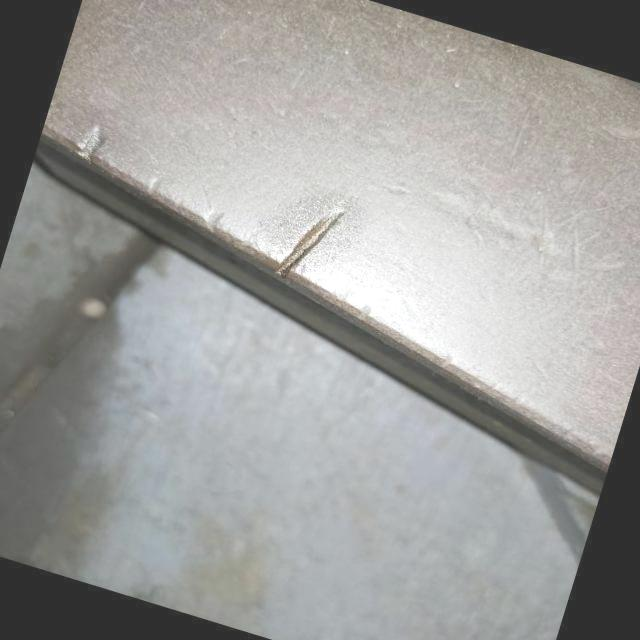defect: (273, 211, 343, 281)
